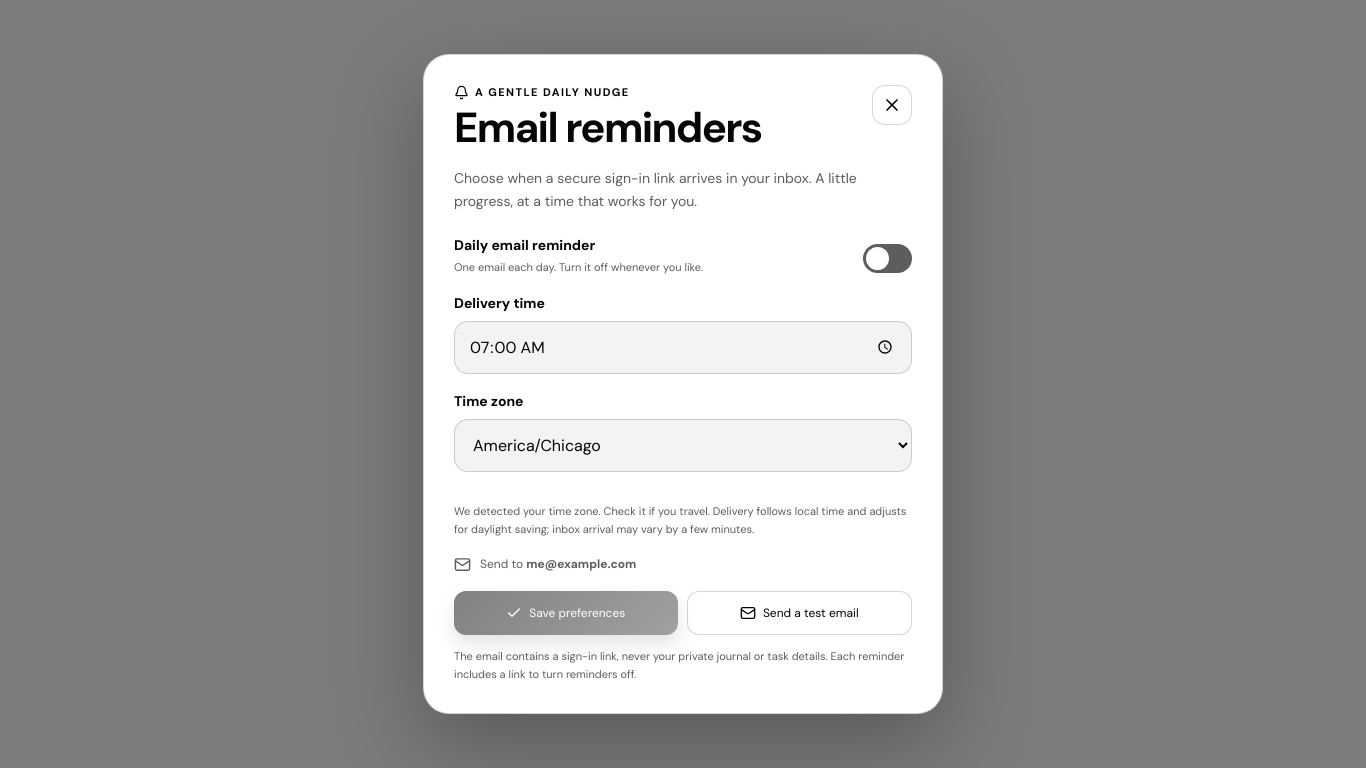
Test case: loads, saves the chosen schedule, and explicitly sends a test
This screenshot has width=1366, height=768.
Click the switch: (888, 259) 863,244 -> 912,273
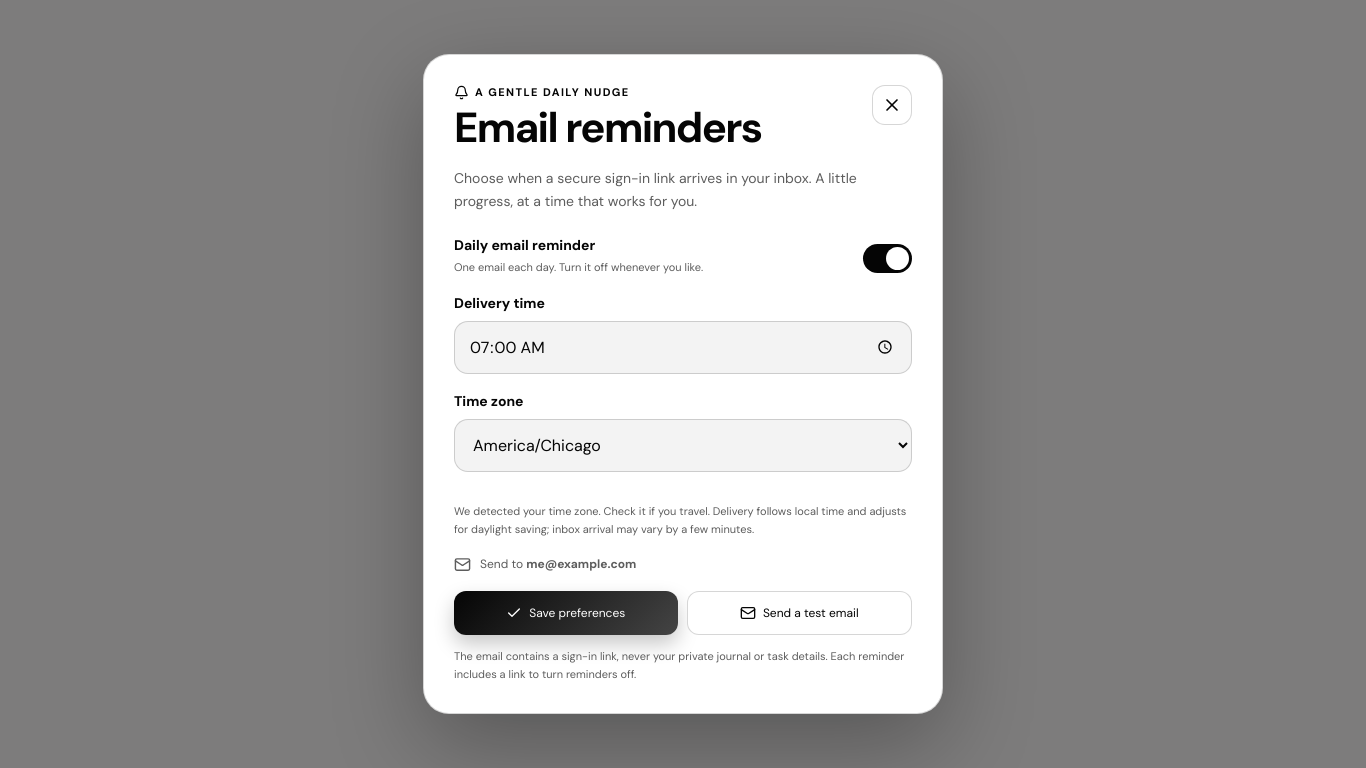
Replace the text in the time field labelled "Delivery time" with "18:30": (683, 347) 454,321 -> 912,374
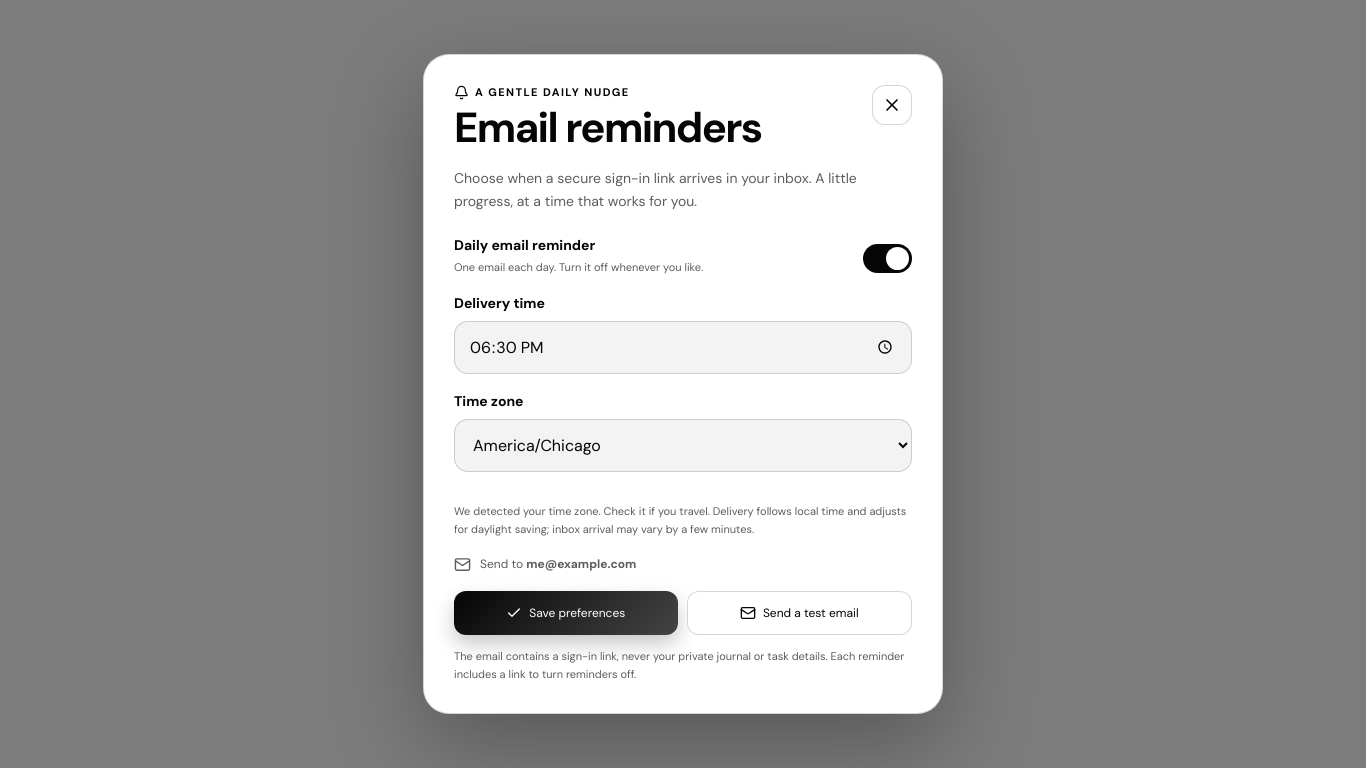
Click the button "Save preferences": (566, 613) 454,591 -> 678,635
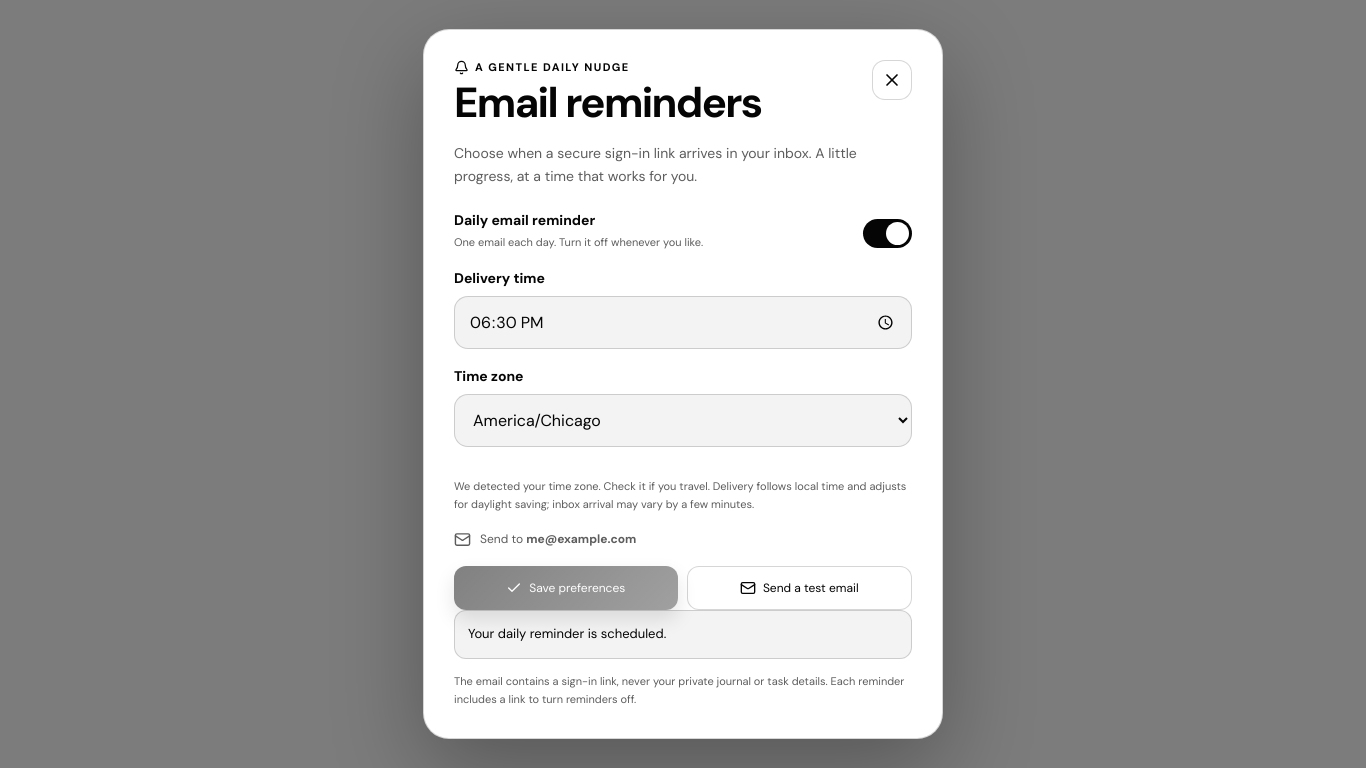
Now the text "Your daily reminder is scheduled." is shown, box 454,610 -> 912,659
Click the button "Send a test email": (799, 588) 686,566 -> 912,610
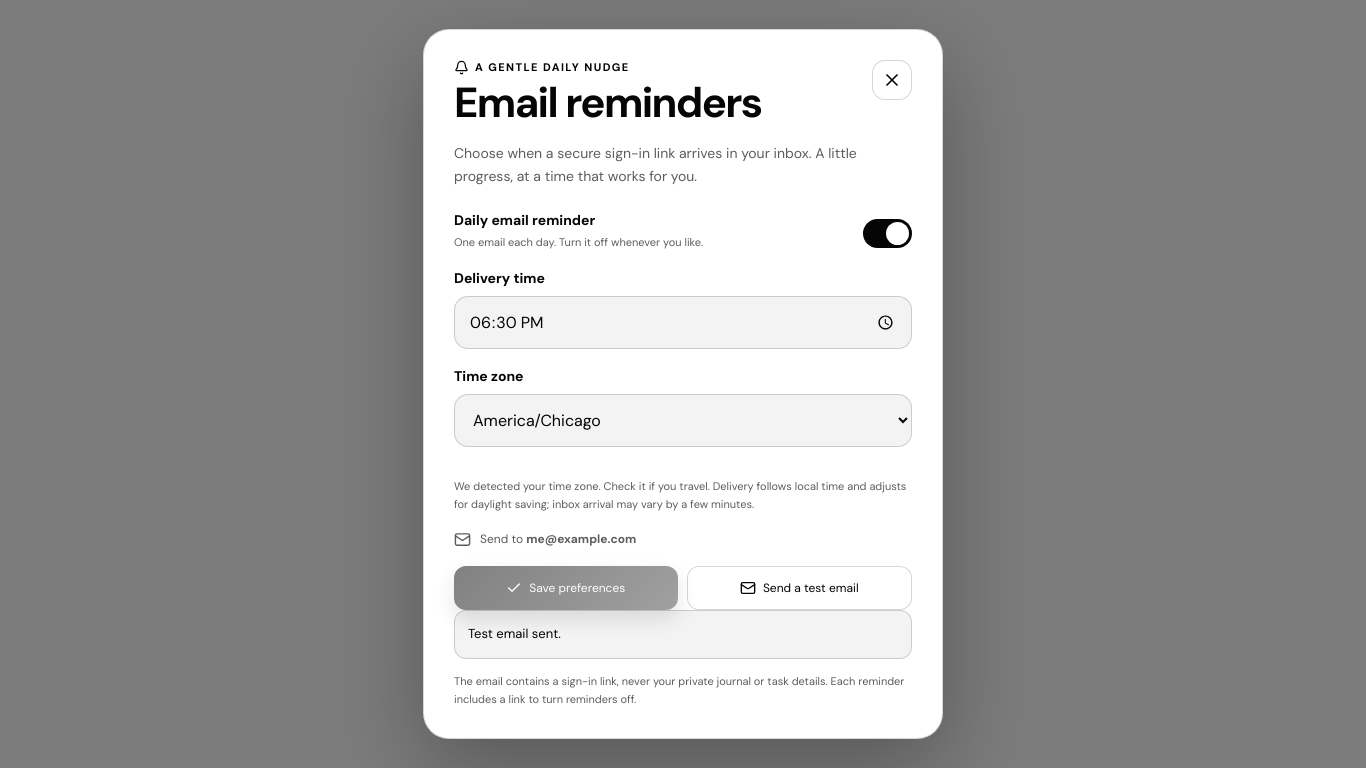
Now the text "Test email sent." is shown, box 454,610 -> 912,659
